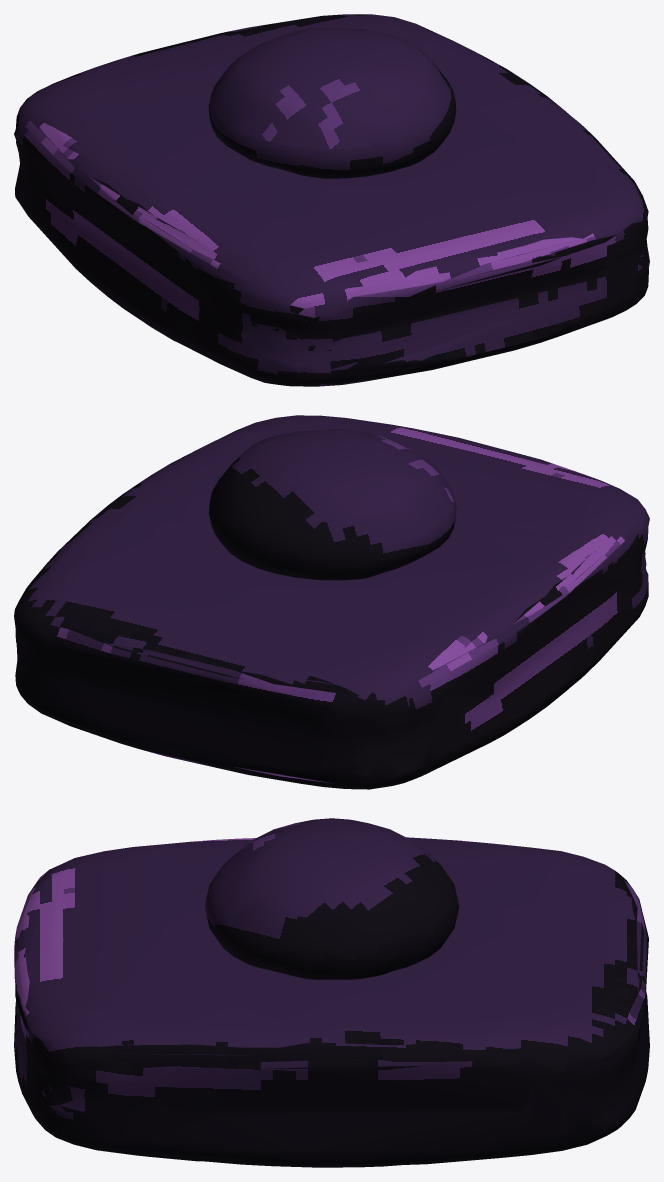
File: mk_zabuton.glb
The picture shows the model from 3 angles, top to bottom: view 1: azimuth 30°, elevation 25°; view 2: azimuth 150°, elevation 25°; view 3: azimuth 270°, elevation 25°; orthographic projection. The views are drawn at different scales.
Parts seen in each view (by area): view 1: mesh; view 2: mesh; view 3: mesh.
Boxes of the visible parts, box(x1,y1,x2,y2) form: mesh: box(14, 14, 649, 386); mesh: box(14, 415, 649, 789); mesh: box(14, 818, 649, 1167).
Size of the model in its own units: 0.2468 by 0.12 by 0.3009.
Materials: 1 (1 with a texture image).
